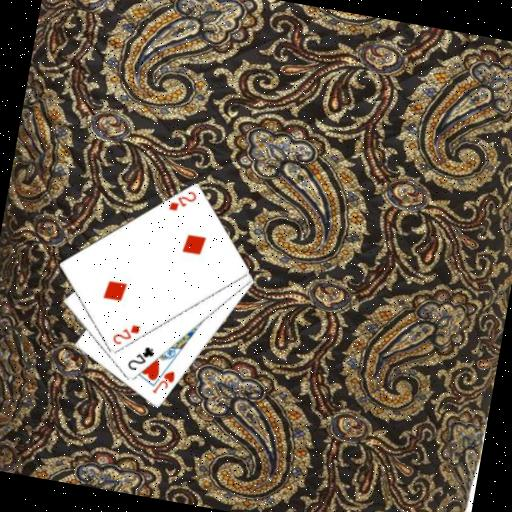2C: (123, 340, 157, 375)
2D: (108, 318, 142, 349), (165, 184, 199, 215)
JH: (148, 364, 177, 398)
